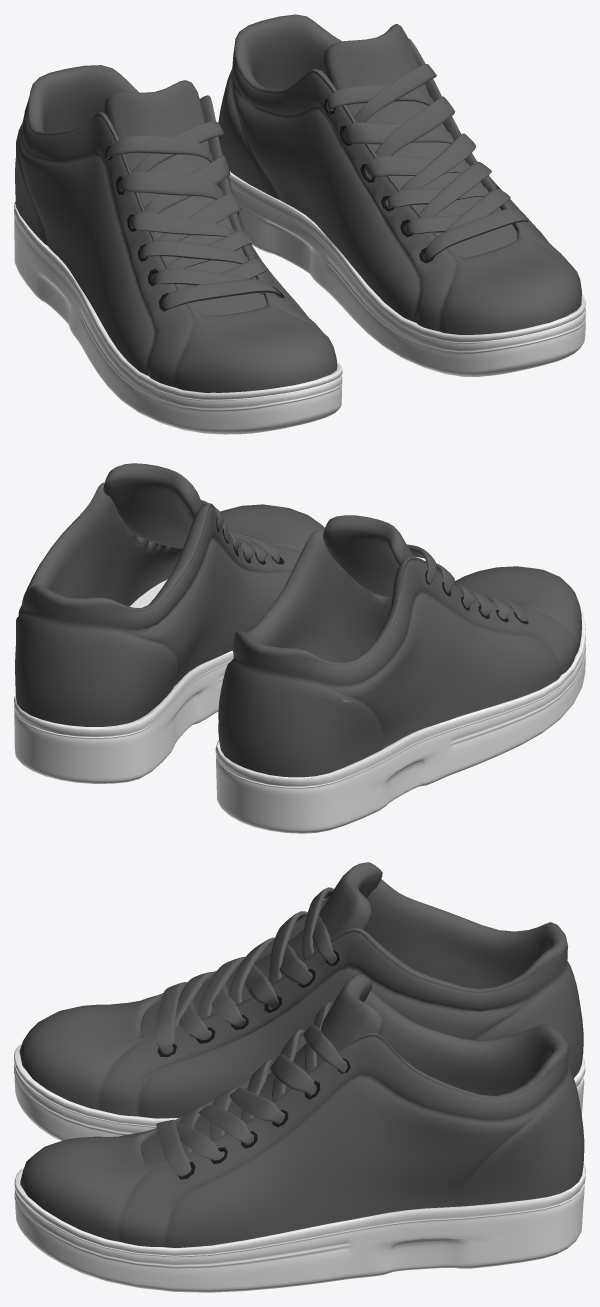
The model's file is boy shoes.fbx.
The picture shows the model from 3 angles, top to bottom: view 1: azimuth 30°, elevation 25°; view 2: azimuth 150°, elevation 25°; view 3: azimuth 270°, elevation 25°; orthographic projection. The views are drawn at different scales.
Visible parts, largest first — view 1: boy shoes 1, boy shoes 2; view 2: boy shoes 2, boy shoes 1; view 3: boy shoes 1, boy shoes 2.
Part boxes in pixels (left/top/right/bottom): boy shoes 1: left=218, top=14, right=585, bottom=376; boy shoes 2: left=14, top=65, right=342, bottom=434; boy shoes 2: left=215, top=515, right=585, bottom=833; boy shoes 1: left=14, top=463, right=324, bottom=783; boy shoes 1: left=14, top=973, right=585, bottom=1292; boy shoes 2: left=14, top=862, right=585, bottom=1140.
Bounding box in the file's own units: 143 × 78.55 × 159.
Materials: 2 (2 with a texture image).
